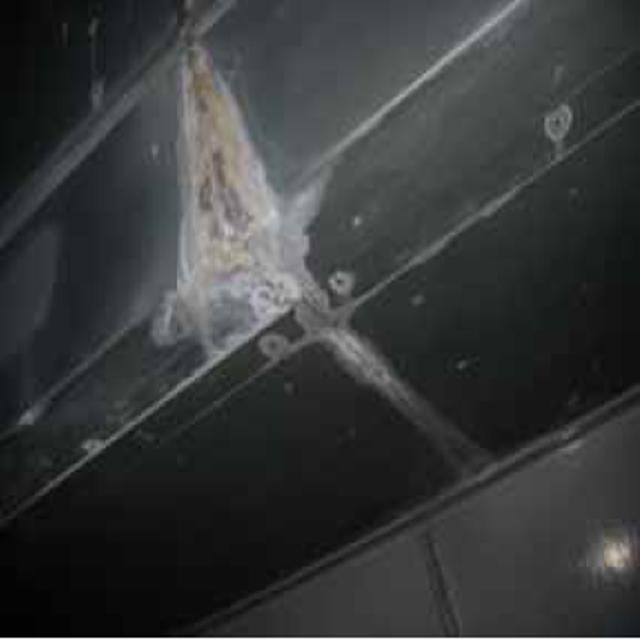freelime: (170, 45, 337, 352)
